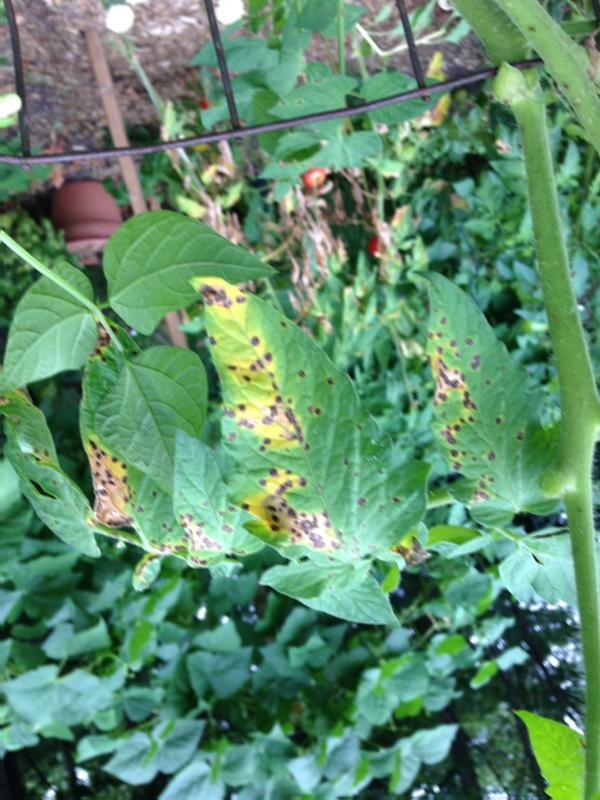Tomato Septoria leaf spot: (190, 277, 394, 557), (414, 280, 540, 530), (1, 260, 98, 398), (177, 419, 236, 563)
